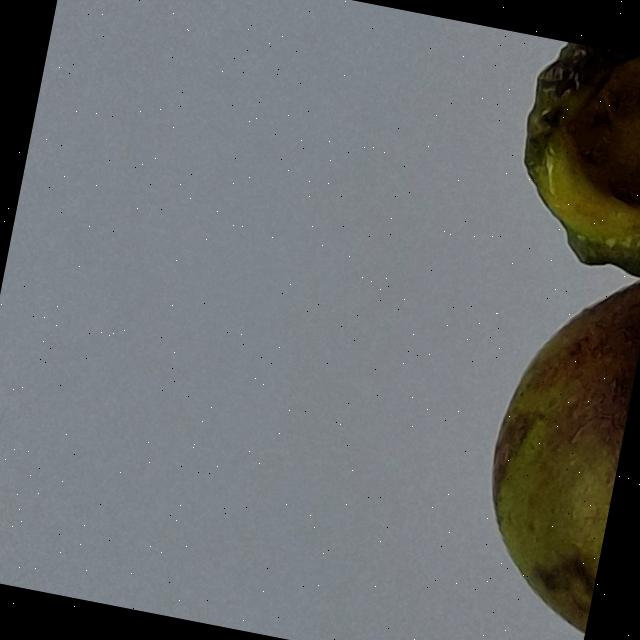mangosteen: (332, 20, 640, 640)
